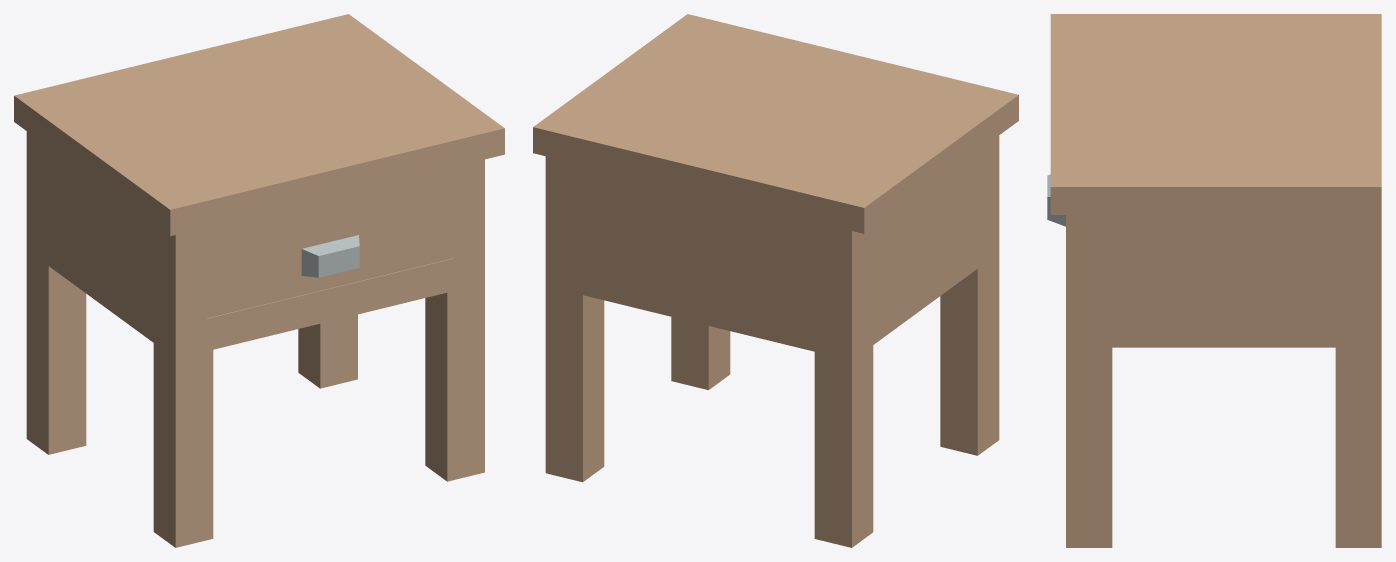
File: cabinetBedDrawerTable.glb
3 views of the same model, side by side, from view 1: azimuth 30°, elevation 25°; view 2: azimuth 150°, elevation 25°; view 3: azimuth 270°, elevation 25° (orthographic). The views are drawn at different scales.
Visible parts, largest first — view 1: cabinetBedDrawerTable; view 2: cabinetBedDrawerTable; view 3: cabinetBedDrawerTable.
Part boxes in pixels (x1,y1,x2,y2): cabinetBedDrawerTable: (14,14,504,547); cabinetBedDrawerTable: (533,14,1018,547); cabinetBedDrawerTable: (1047,14,1381,547).
Bounding box in the file's own units: 0.266 × 0.2632 × 0.2173.
